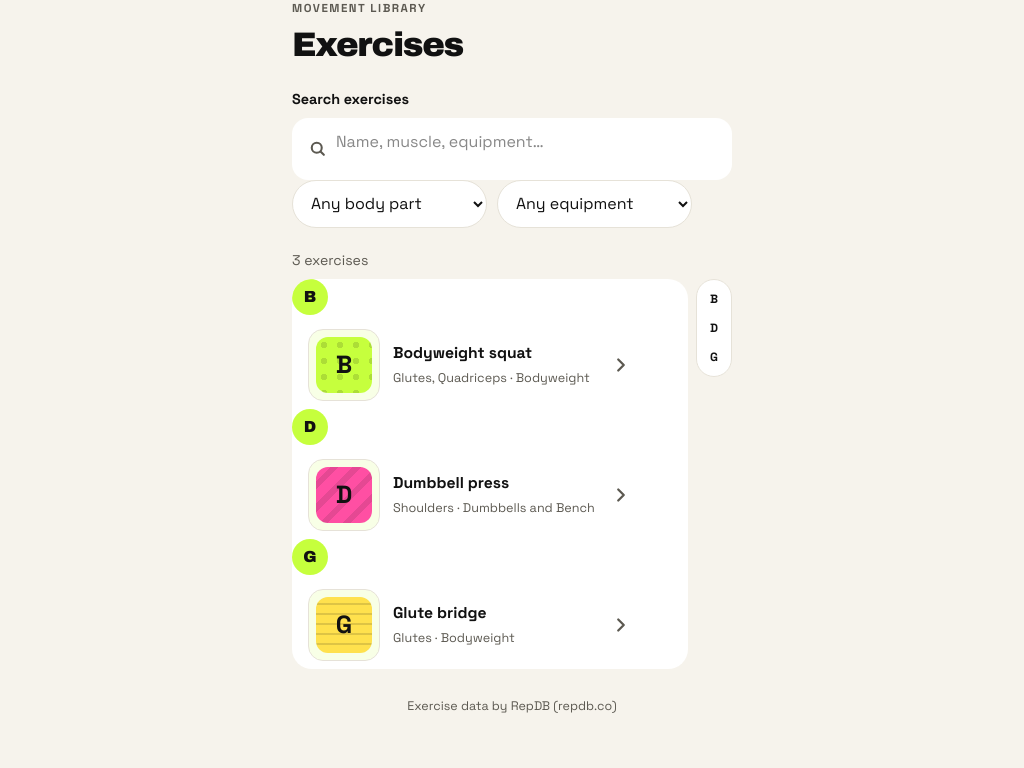
Test: exercise catalogue › lets the user exclude an exercise from future plans in its detail page
The image size is (1024, 768).
What coordinates should you click on to do the following:
click the link with aria-label "View Bodyweight squat"
I would click on:
 (470, 365)
Its box is [292,321,648,409].
(page scrolled)
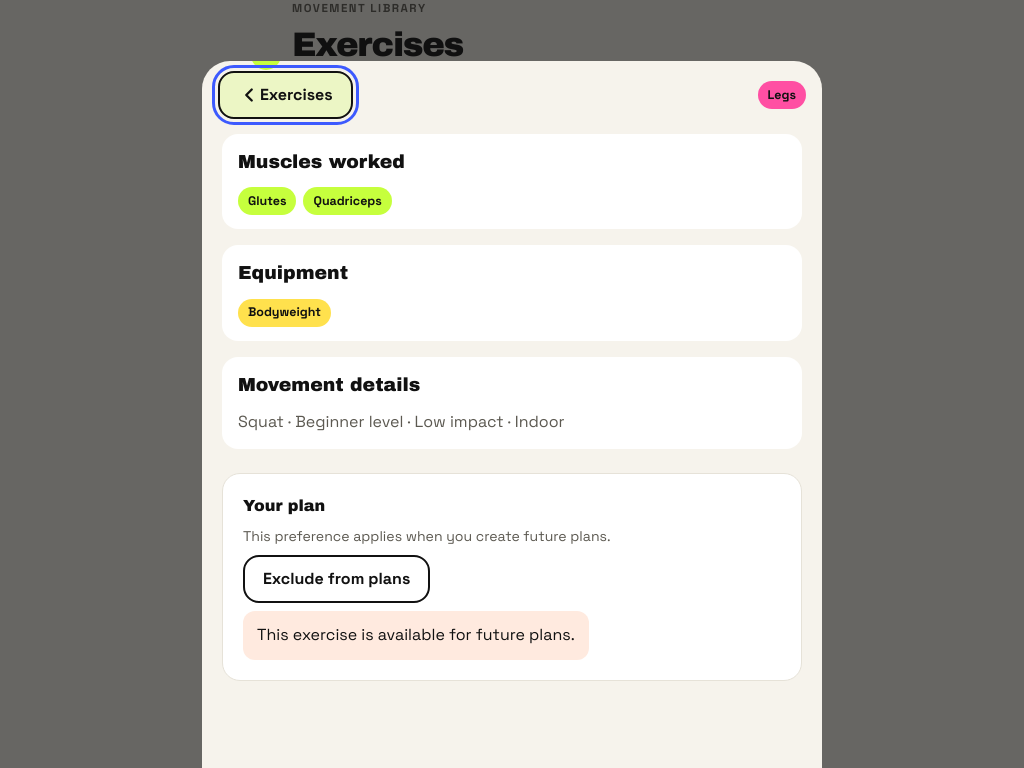
Check: the button "Exclude from plans" is shown
What coordinates should you click on to do the following:
click the button "Exclude from plans"
I would click on:
 (337, 579)
Its box is [243,555,430,603].
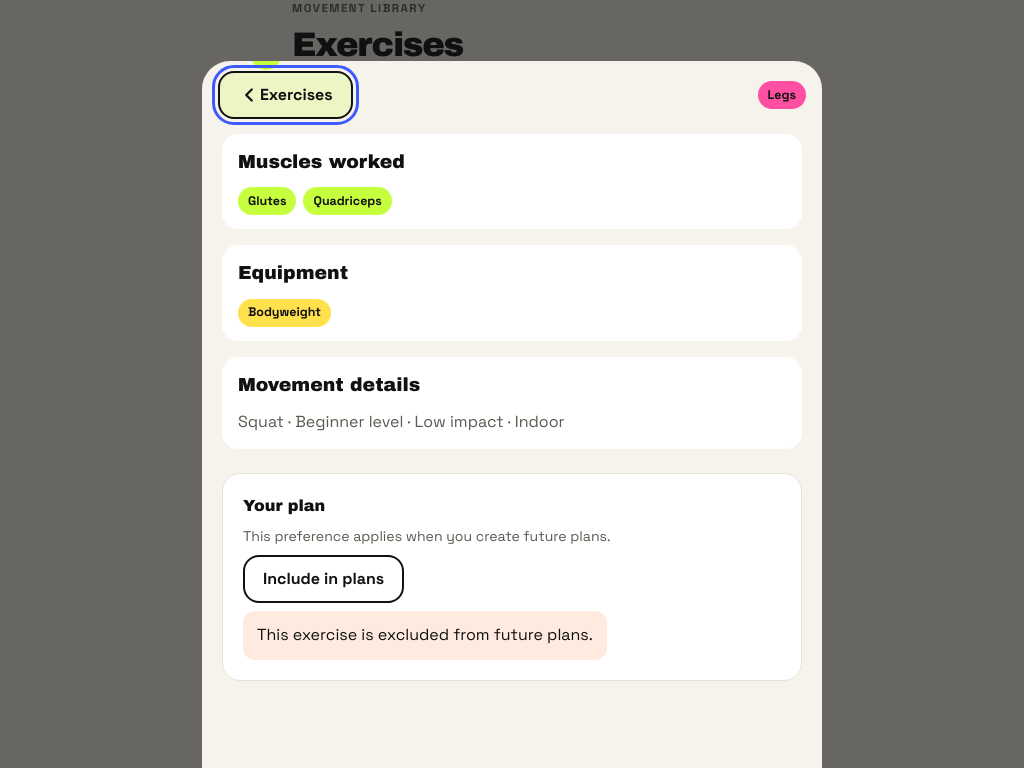
Check: the button "Include in plans" is shown, box [243,555,404,603]
Check: the text "This exercise is excluded from future plans." is shown, box [243,611,607,660]
